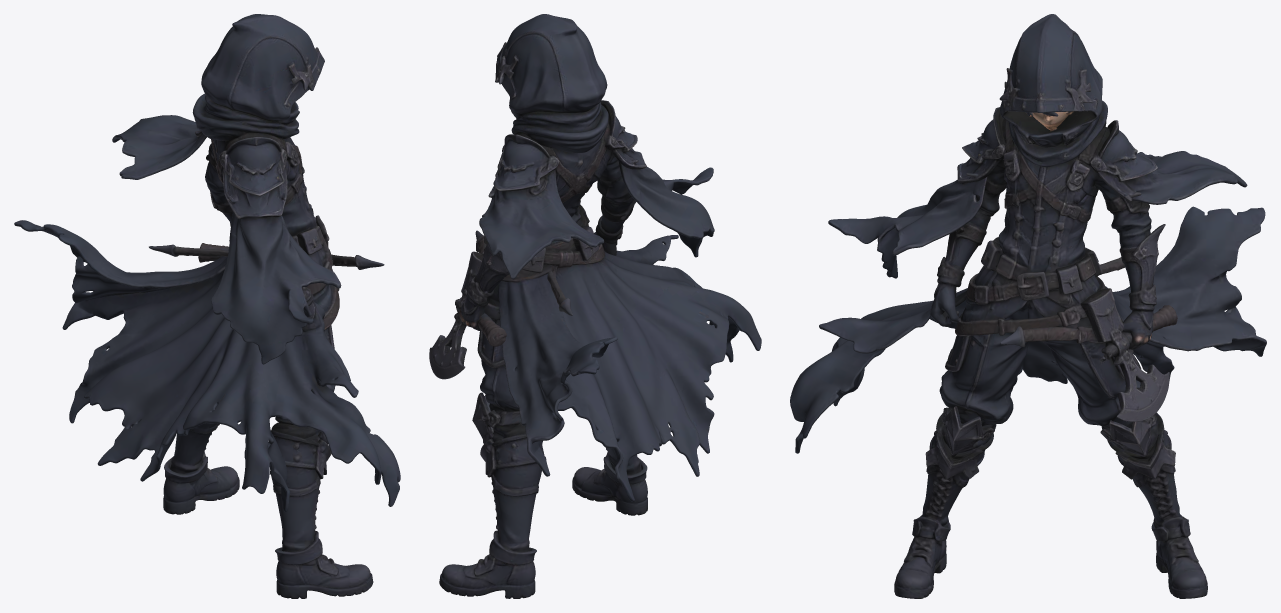
File: 330-hooded-rogue-warrior.glb
3 views of the same model, side by side, from view 1: azimuth 30°, elevation 25°; view 2: azimuth 150°, elevation 25°; view 3: azimuth 270°, elevation 25° (orthographic). The views are drawn at different scales.
Visible parts, largest first — view 1: tripo_node_2d6f7746-f902-4b2d-ab71-489599b5182f; view 2: tripo_node_2d6f7746-f902-4b2d-ab71-489599b5182f; view 3: tripo_node_2d6f7746-f902-4b2d-ab71-489599b5182f.
Part boxes in pixels (x1,y1,x2,y2): tripo_node_2d6f7746-f902-4b2d-ab71-489599b5182f: [14, 14, 400, 598]; tripo_node_2d6f7746-f902-4b2d-ab71-489599b5182f: [429, 14, 761, 598]; tripo_node_2d6f7746-f902-4b2d-ab71-489599b5182f: [790, 14, 1266, 598].
Size of the model in its own units: 0.5025 by 1 by 0.7753.
1 material, 1 textured.
